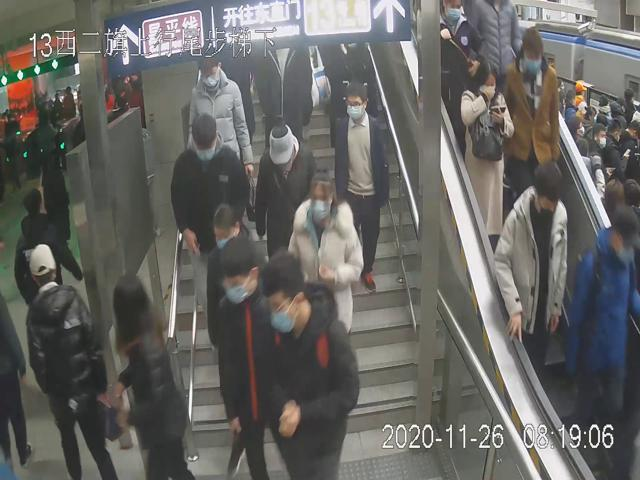person: (261, 250, 359, 480), (211, 234, 277, 467), (493, 156, 566, 361), (329, 80, 392, 296), (285, 168, 366, 331), (170, 111, 249, 264), (459, 62, 514, 253), (186, 53, 255, 194), (253, 119, 316, 253), (206, 201, 248, 347)
